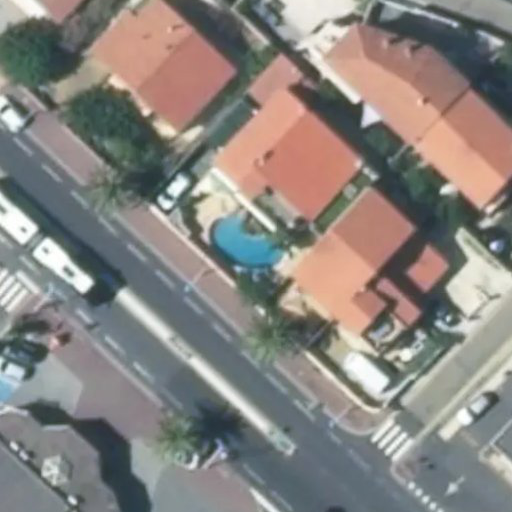pool: (210, 243, 301, 249)
